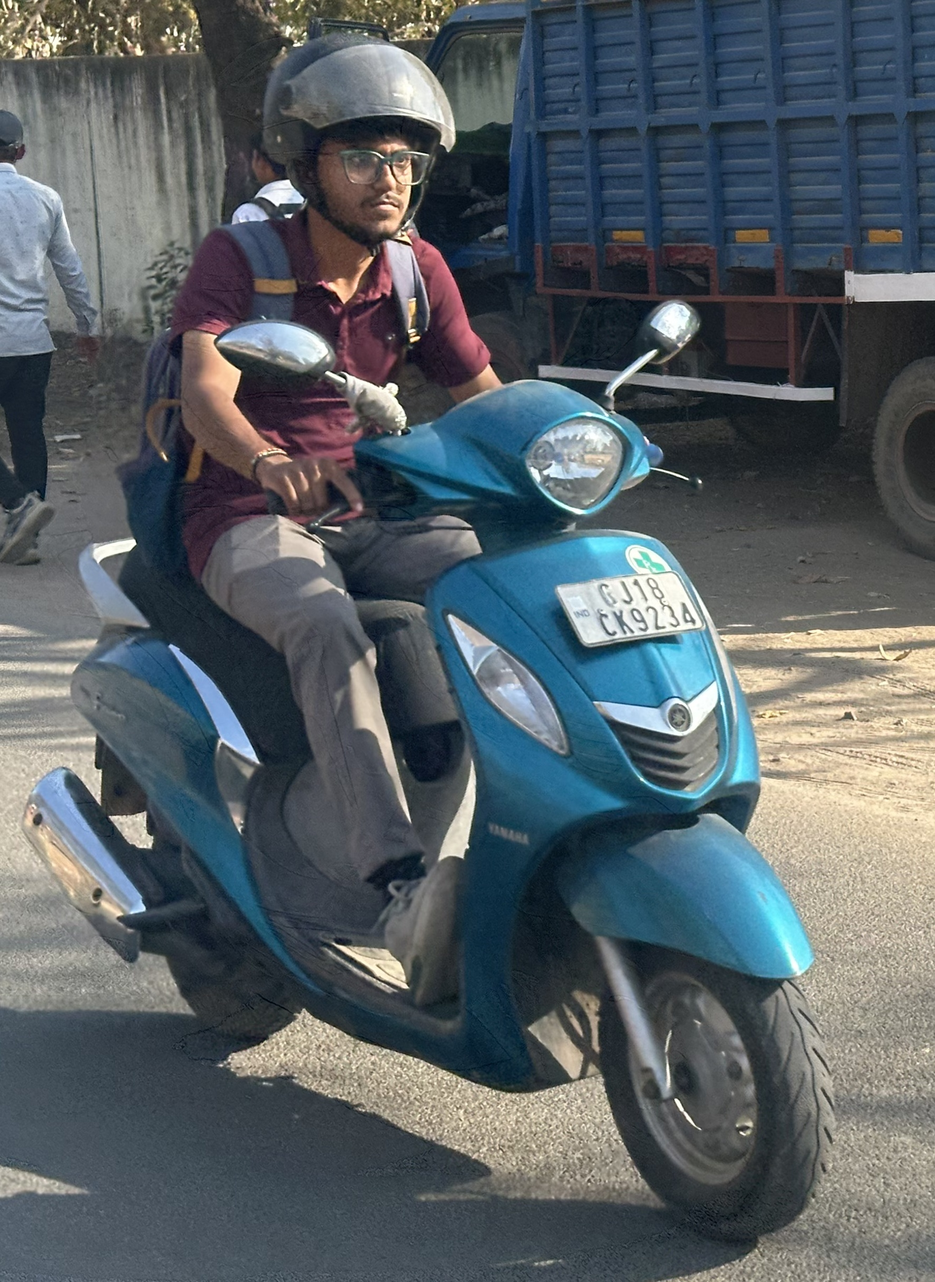BikeWithRider: (22, 17, 844, 1249)
Helmet: (249, 23, 475, 255)
